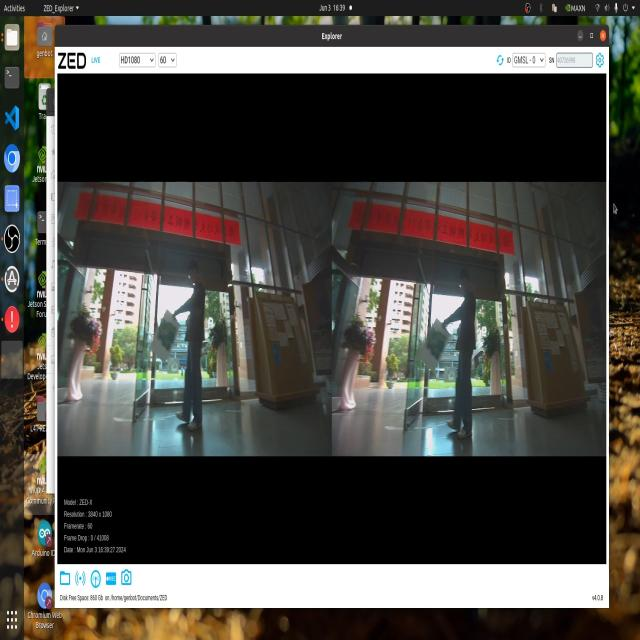green: (422, 321, 448, 366), (155, 317, 174, 348)
